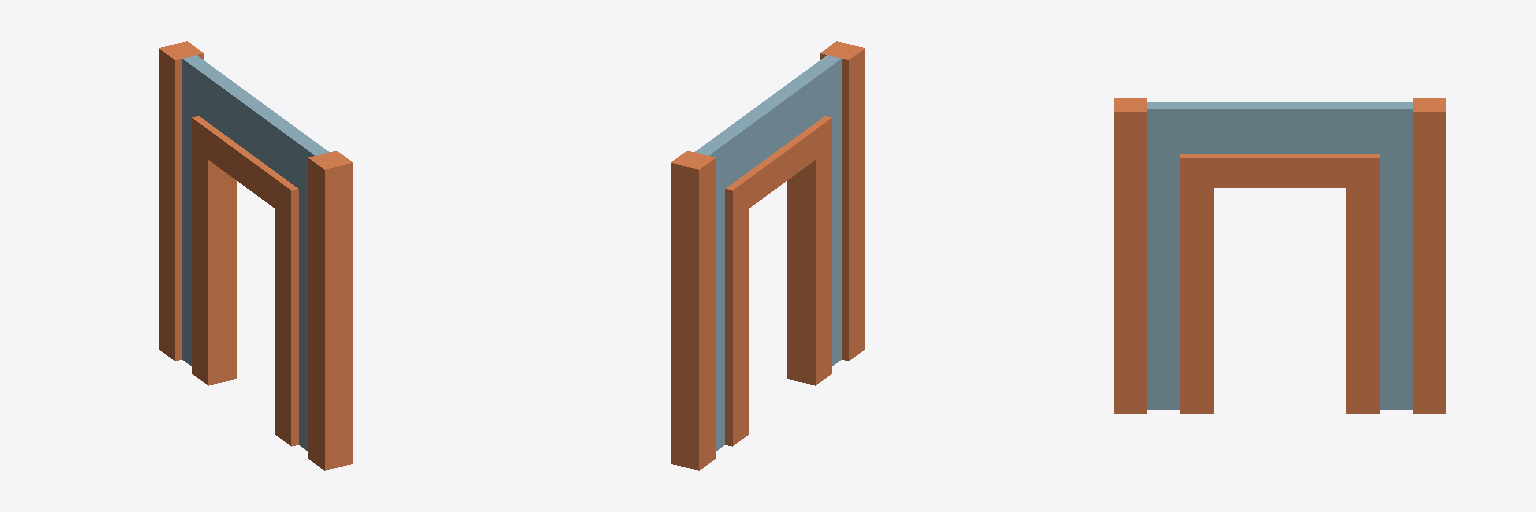
Rendered from wallDoorwaySquare.obj.
The picture shows the model from 3 angles: view 1: azimuth 30°, elevation 25°; view 2: azimuth 150°, elevation 25°; view 3: azimuth 270°, elevation 25°; orthographic projection.
Parts seen in each view (by area): view 1: wallDoorwaySquare; view 2: wallDoorwaySquare; view 3: wallDoorwaySquare.
Part boxes in pixels (bbox=[...]): wallDoorwaySquare: bbox=[159, 41, 352, 470]; wallDoorwaySquare: bbox=[671, 41, 864, 470]; wallDoorwaySquare: bbox=[1114, 98, 1445, 413].
Bounding box in the file's own units: 0.1 × 1 × 1.